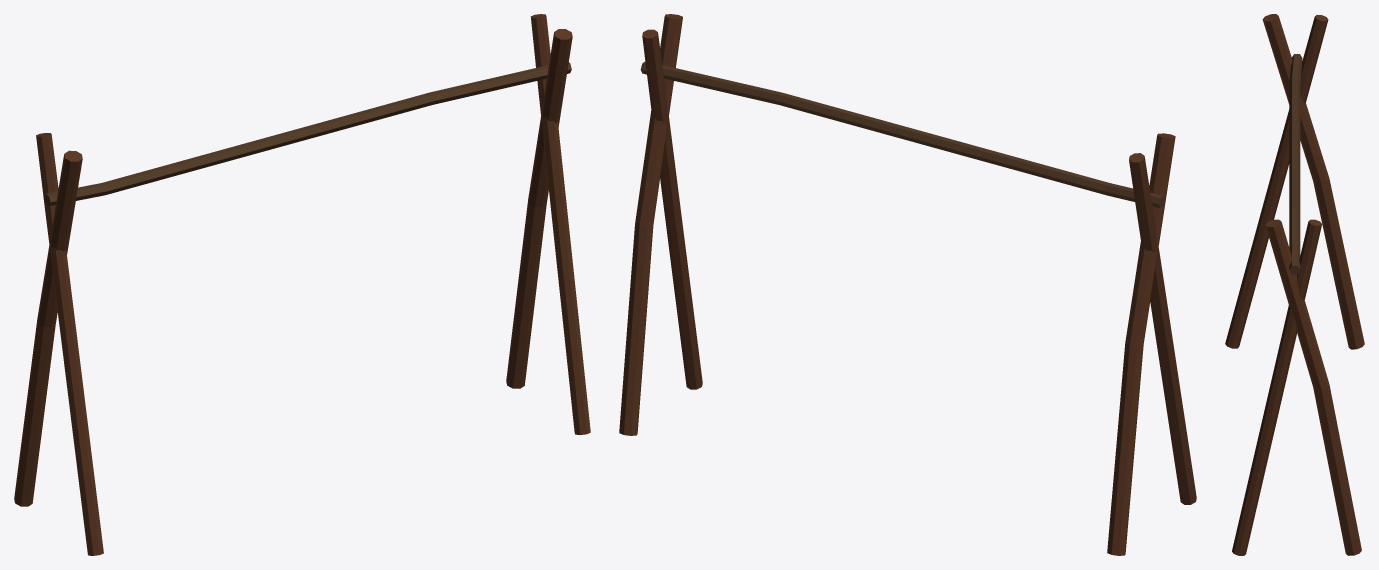
File: Stand_1.fbx
3 renders of one model, left to right at view 1: azimuth 30°, elevation 25°; view 2: azimuth 150°, elevation 25°; view 3: azimuth 270°, elevation 25°, orthographic. The views are drawn at different scales.
Parts seen in each view (by area): view 1: Stand_1; view 2: Stand_1; view 3: Stand_1.
Boxes of the visible parts, x1=… form: Stand_1: x1=14, y1=14, x2=590, y2=555; Stand_1: x1=619, y1=14, x2=1196, y2=555; Stand_1: x1=1225, y1=14, x2=1364, y2=555.
Bounding box in the file's own units: 208 × 148 × 56.24.
